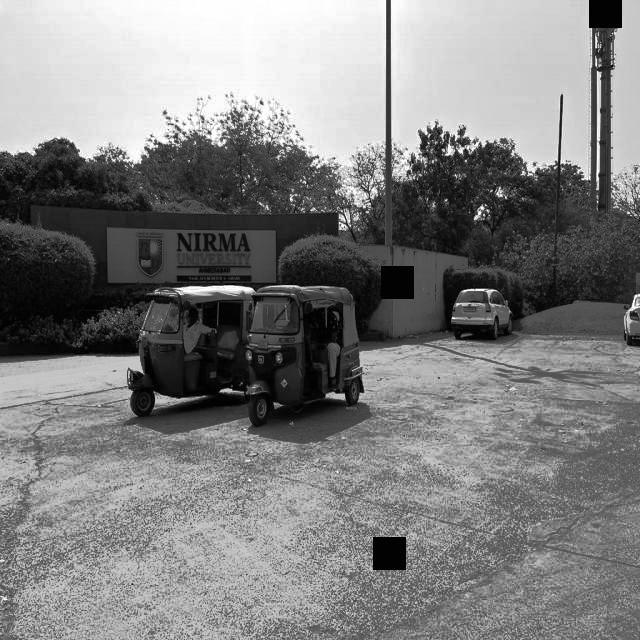Auto-Rickshaw: (116, 282, 256, 410), (243, 288, 369, 420)
Car: (450, 282, 522, 342)
